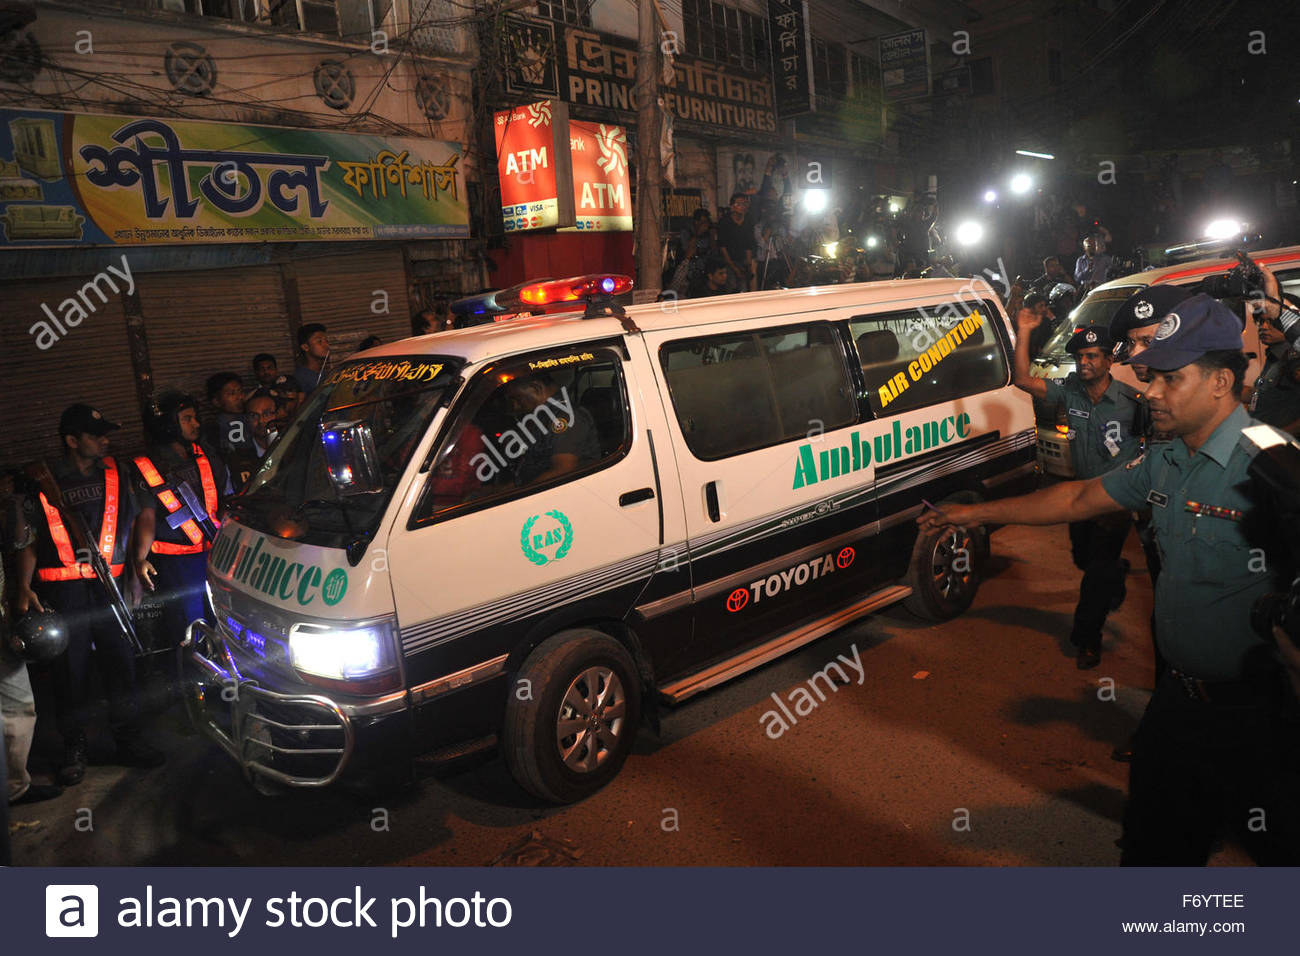ambulance: (169, 269, 1041, 805), (1030, 243, 1300, 481)
